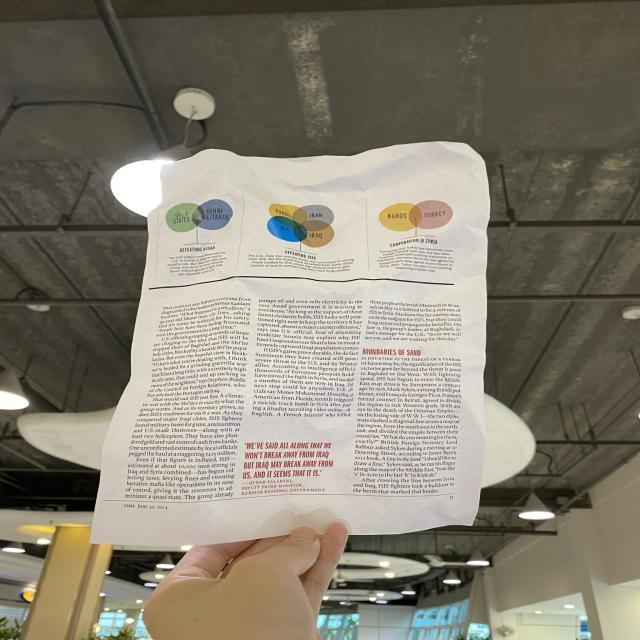document: (92, 142, 488, 545)
